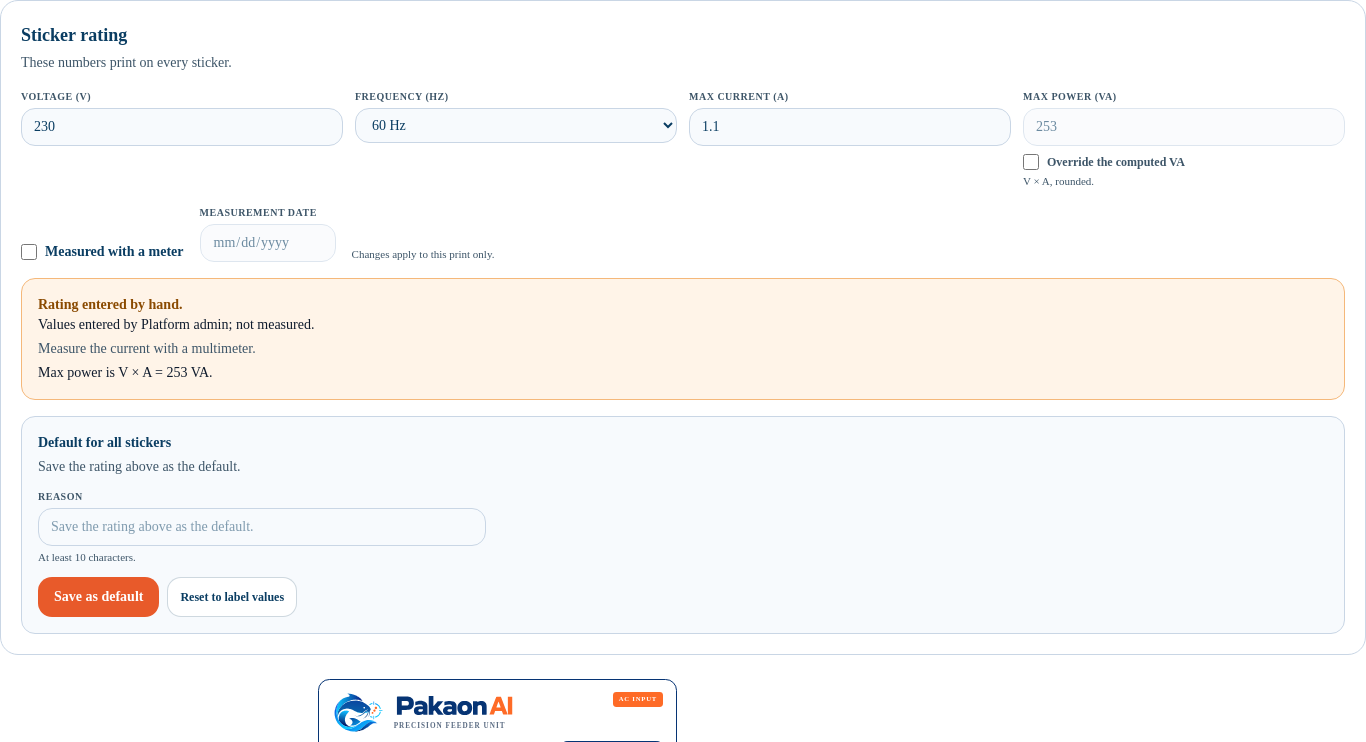
Test: default for all stickers › resets the default and returns the preview to the label values
In the field labelled "Reason At least 10 characters.": (262, 527) [38,508,486,546], type "Measured on the bench"
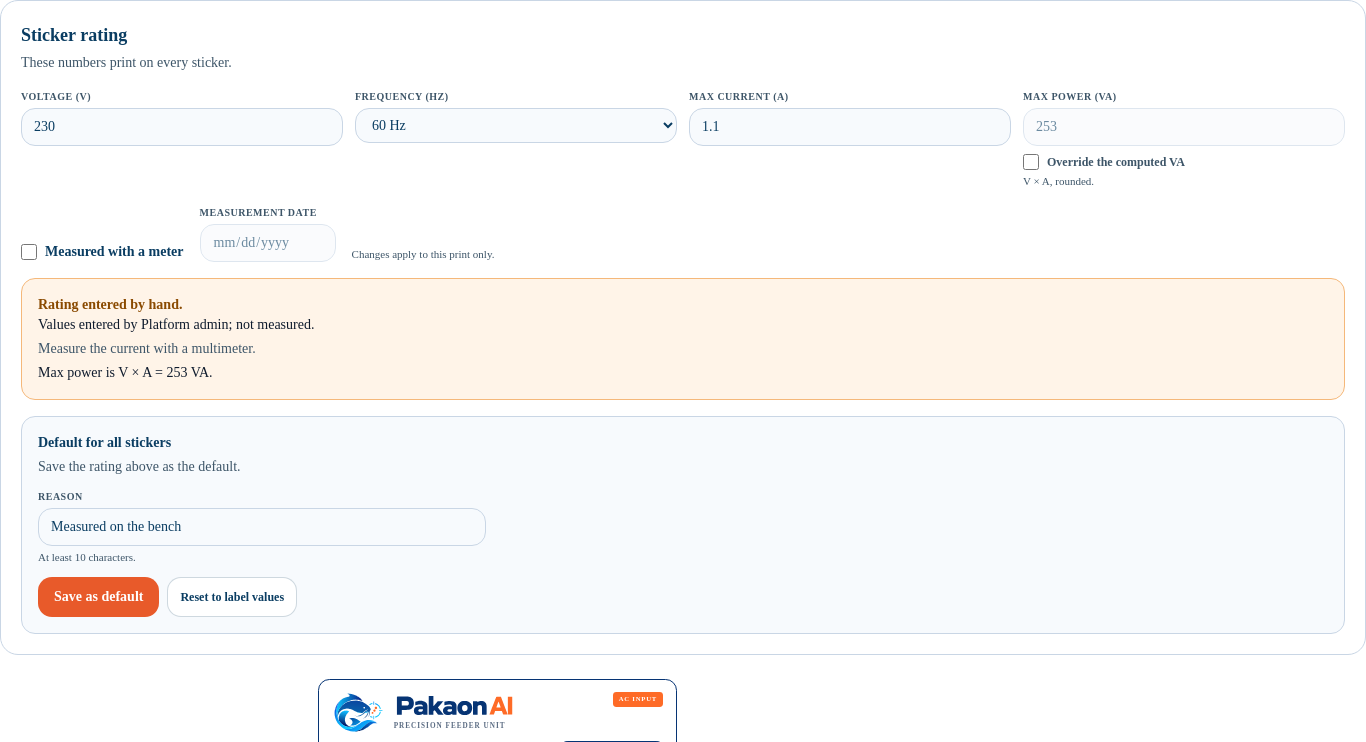
Click the button "Reset to label values": click(232, 597) [168,577,297,617]
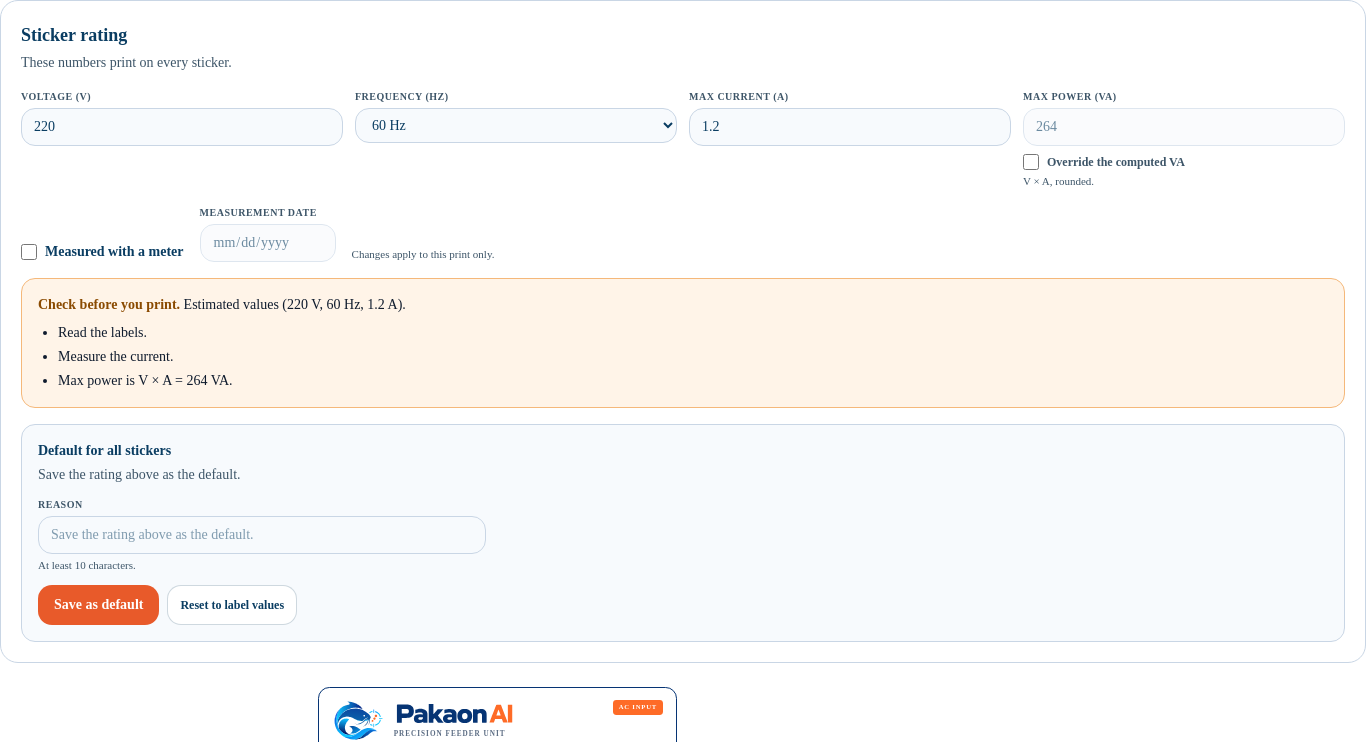
Expected: the text "Check before you print." is shown, [38,297,180,312]
